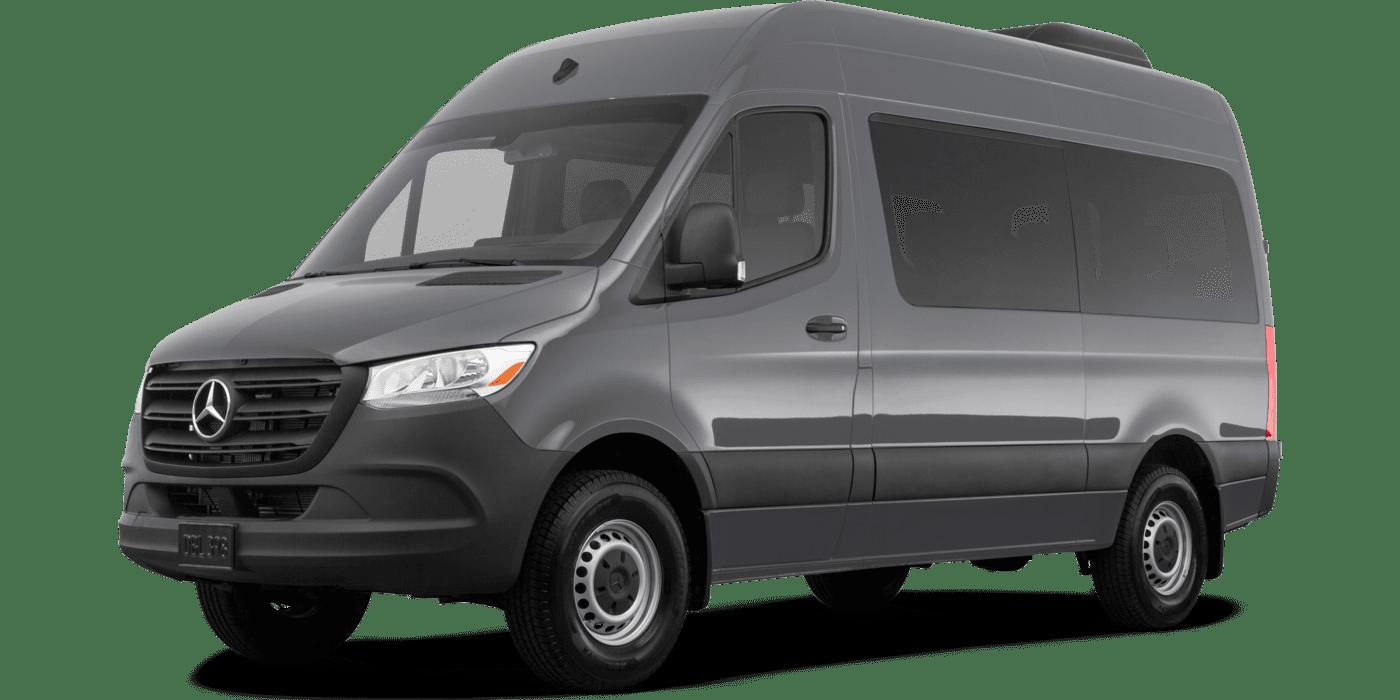car: (112, 0, 1293, 688)
